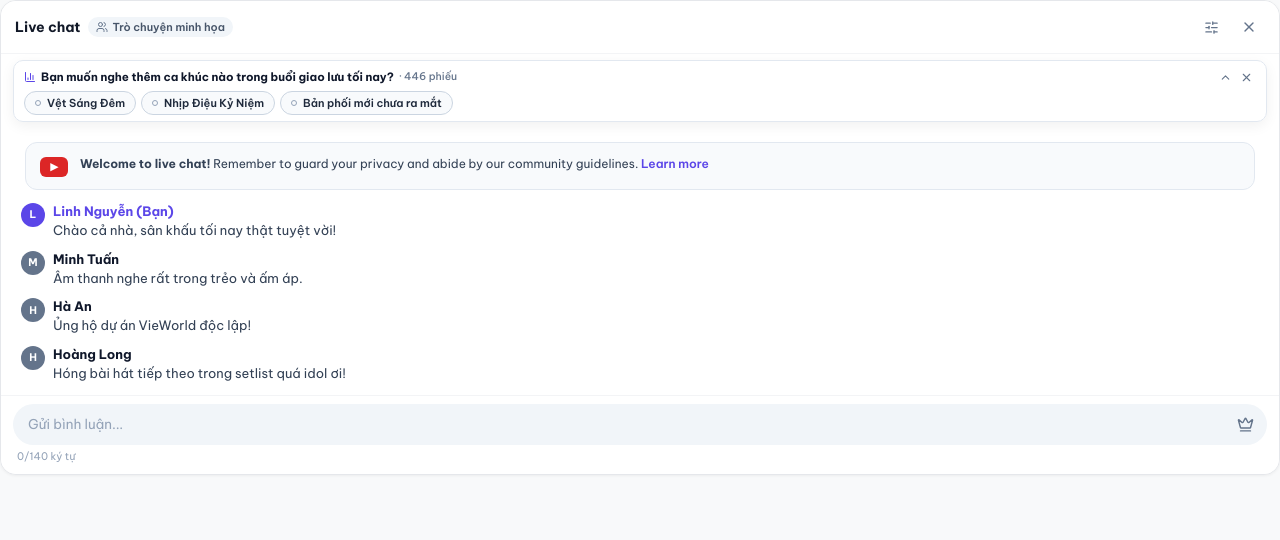
Test: T05 Acceptance: Questions, Poll and Moderated Fan Chat › 6. Security & Text Safety (No Raw HTML / Script Execution) › renders script tags and HTML markup harmlessly as inert text
The image size is (1280, 540).
Submit script injection test string
Type "<script>window.__maliciousTest = true;</script>" into the field named "Nội dung tin nhắn trò chuyện".
click(625, 424); type("<script>window.__maliciousTest = true;</script>")  # box [28,409,1222,440]
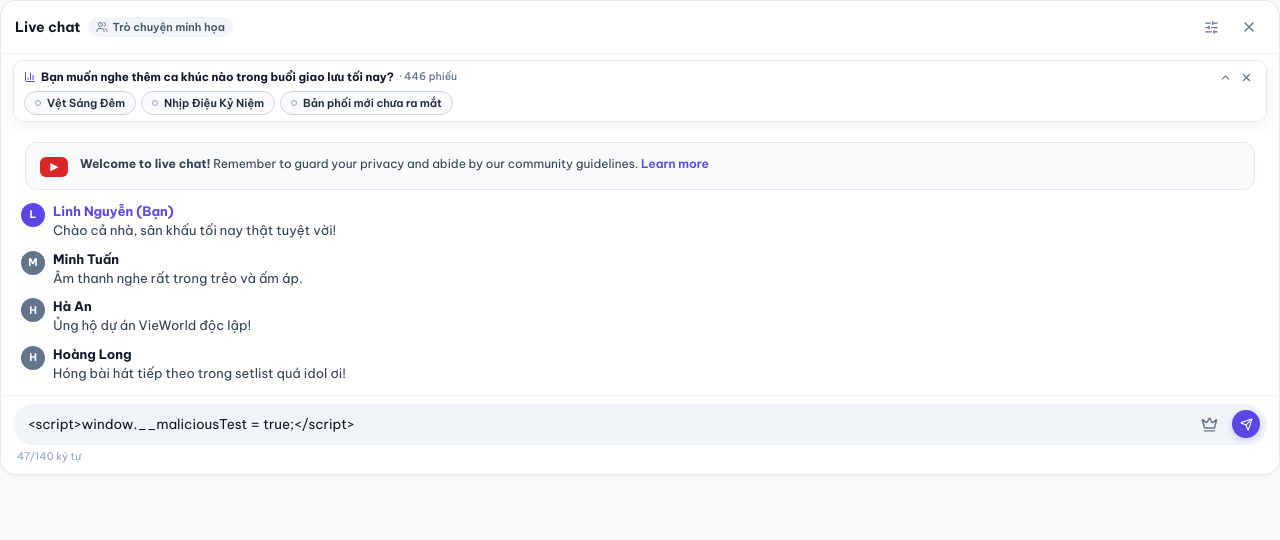
Click the button named "Gửi".
click(1246, 424)  # box [1232,410,1260,438]
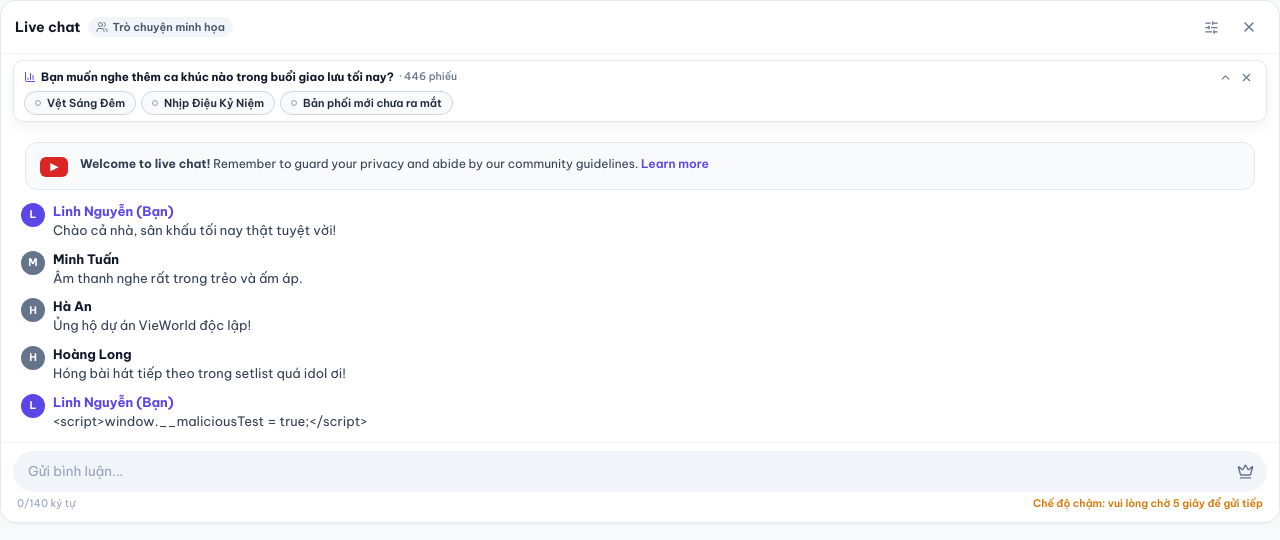
Now the text "<script>window.__maliciousTest = true;</script>" is shown, box [53,413,368,429]
